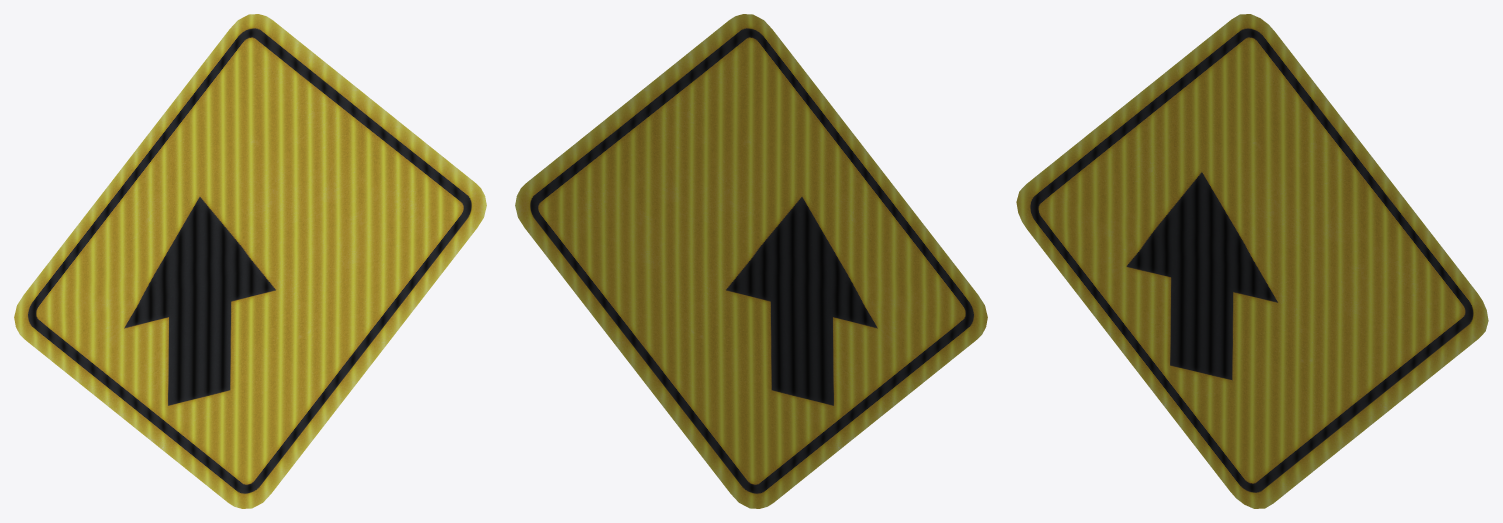
The model's file is RoadSign02TurnRight.fbx.
3 views of the same model, side by side, from view 1: azimuth 30°, elevation 25°; view 2: azimuth 150°, elevation 25°; view 3: azimuth 330°, elevation 25° (orthographic).
Parts seen in each view (by area): view 1: Polygonal_Geometry; view 2: Polygonal_Geometry; view 3: Polygonal_Geometry.
Part boxes in pixels (x1,y1,x2,y2): Polygonal_Geometry: (14,14,486,508); Polygonal_Geometry: (515,14,987,508); Polygonal_Geometry: (1016,14,1488,508).
Size of the model in its own units: 4.5 by 4.5 by 0.
